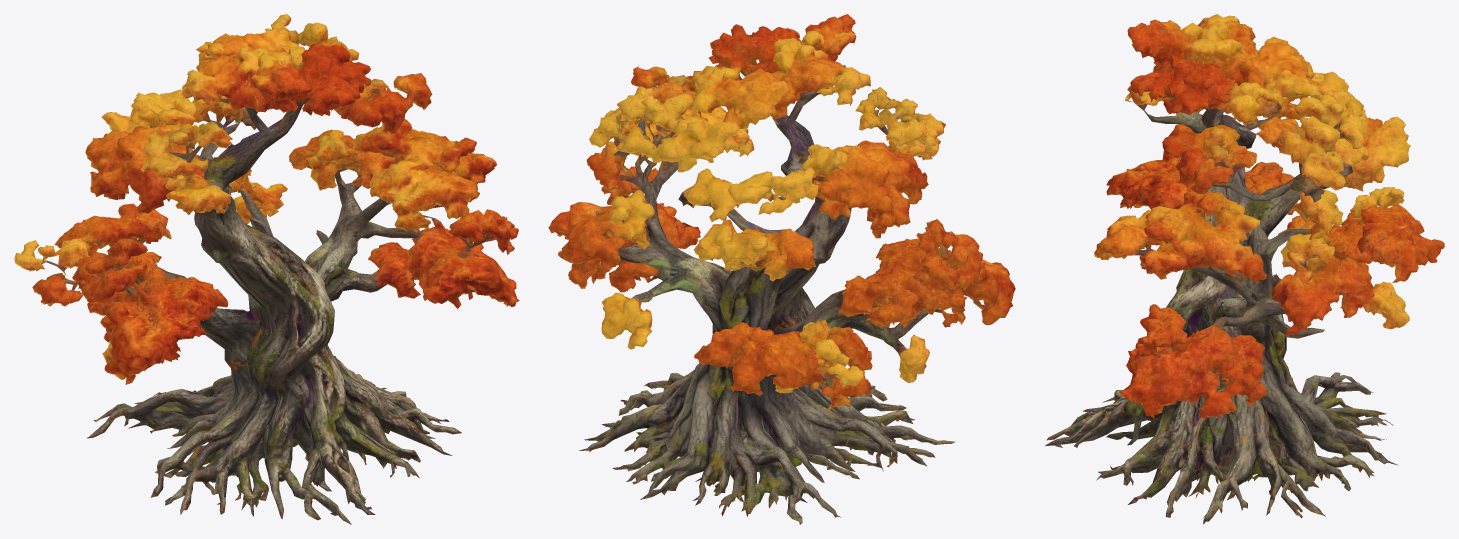
Rendered from hero-tree-a.glb.
The picture shows the model from 3 angles, left to right: view 1: azimuth 30°, elevation 25°; view 2: azimuth 150°, elevation 25°; view 3: azimuth 270°, elevation 25°; orthographic projection.
Parts seen in each view (by area): view 1: Mesh_0; view 2: Mesh_0; view 3: Mesh_0.
Boxes of the visible parts, x1,y1,x2,y2 form: Mesh_0: (14, 14, 519, 524); Mesh_0: (548, 14, 1015, 524); Mesh_0: (1045, 14, 1444, 524).
Size of the model in its own units: 1.88 by 1.87 by 1.62.
Materials: 1 (1 with a texture image).
